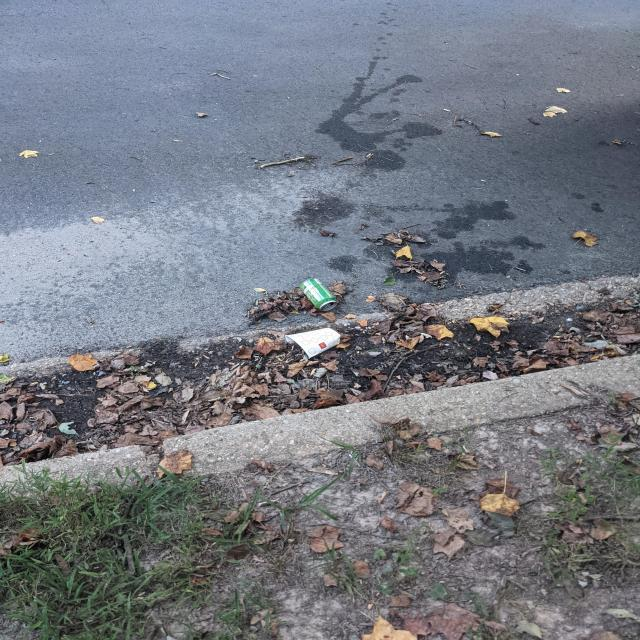litter: (285, 328, 341, 359), (300, 278, 337, 311)
